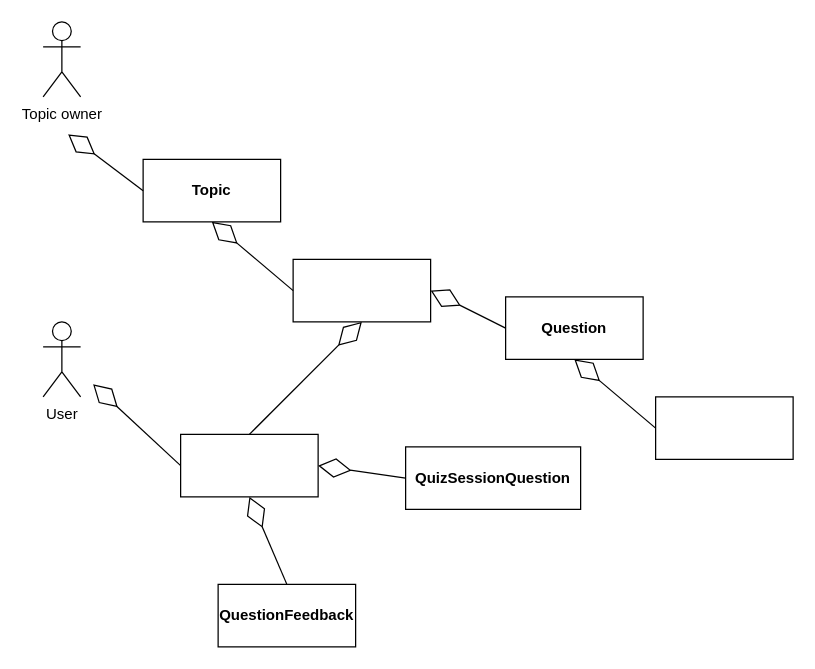
The diagram is 815 pixels wide and 669 high, and some of its shapes have lost their labels. Here are the shapes that lost their labels. From the top down, the centre of each, then its label:
At point 361,290: "Quiz".
At point 723,427: "Option".
At point 248,465: "QuizSession".
